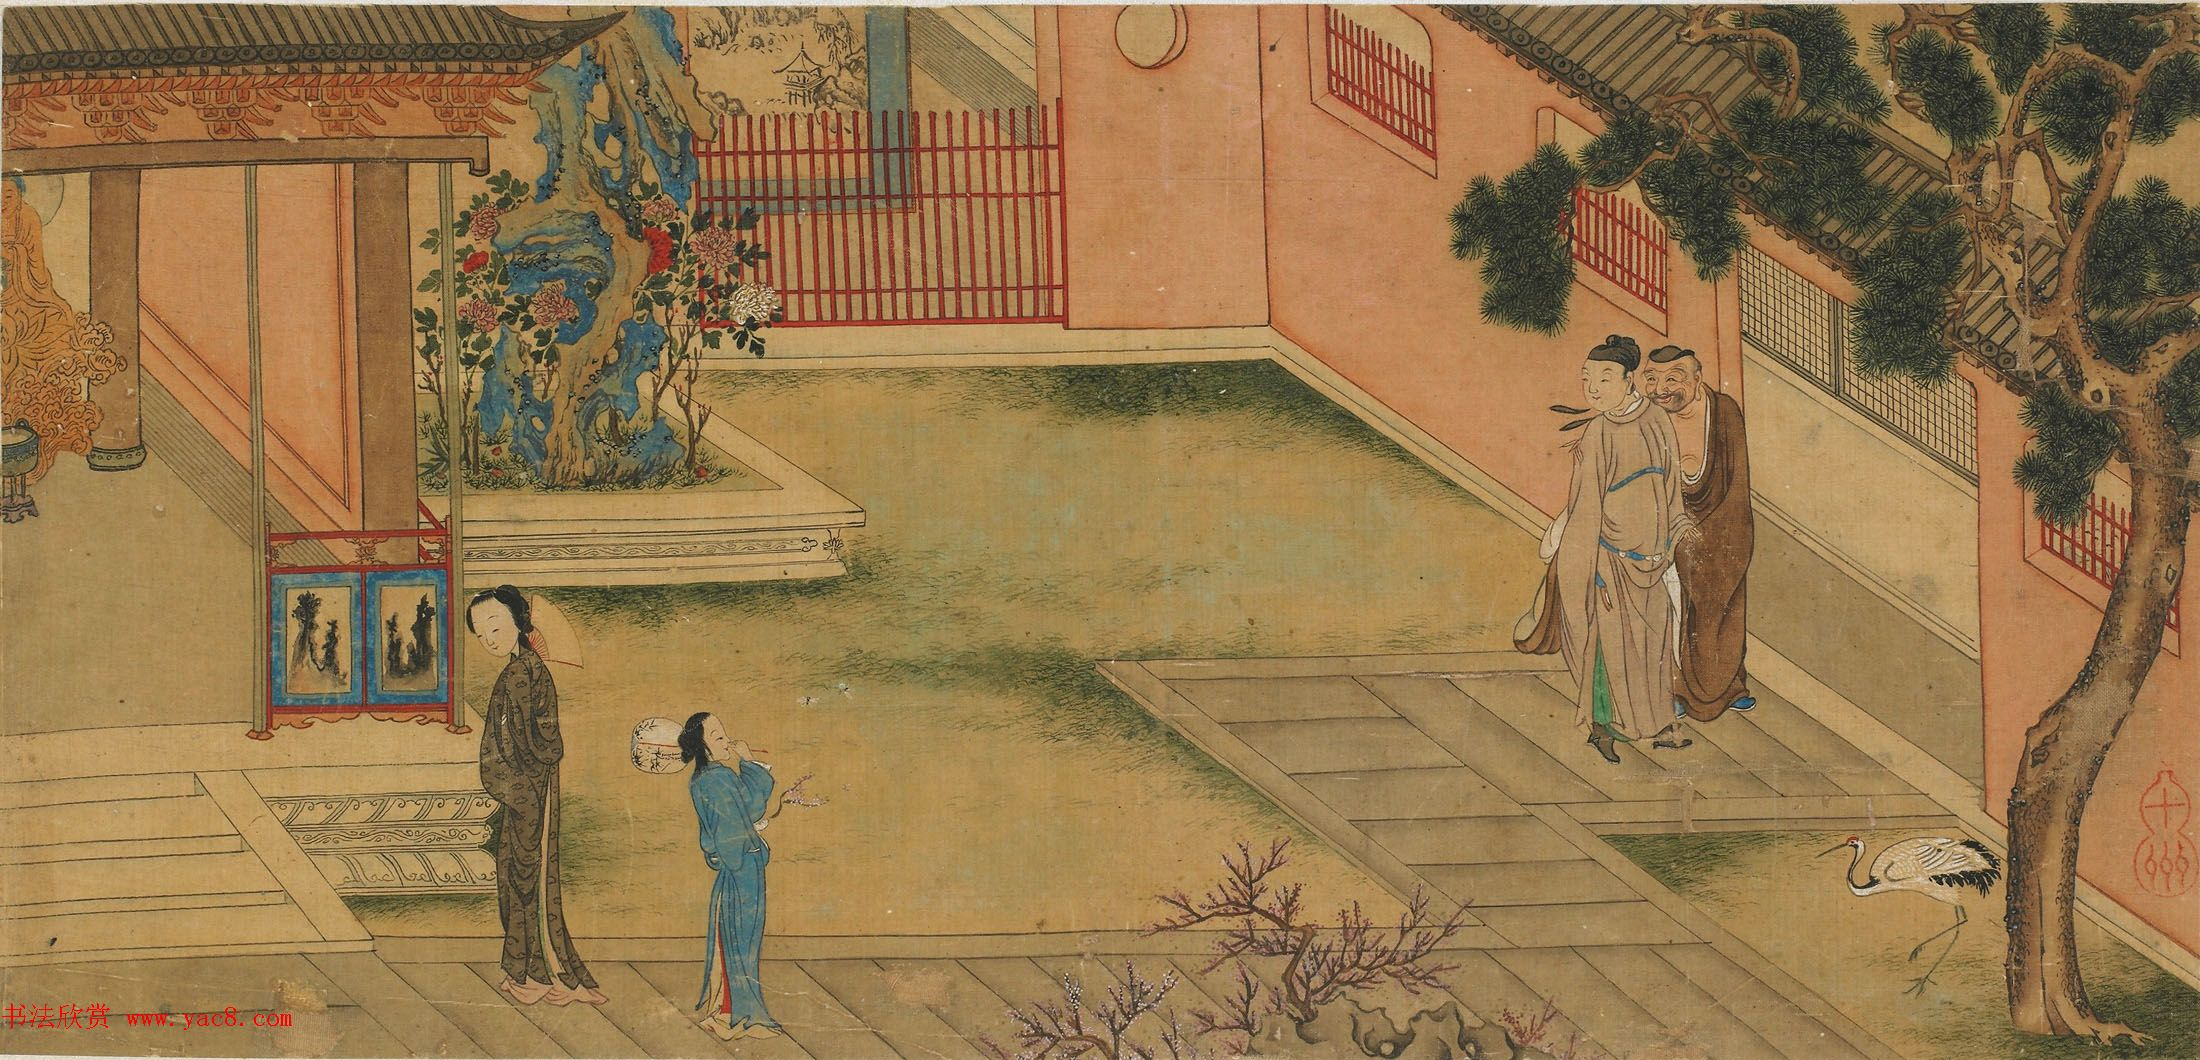crane: (1841, 838, 1995, 1009)
decoration: (1, 179, 111, 528)
fan: (538, 605, 586, 668), (640, 724, 679, 773)
flower: (478, 186, 762, 487), (559, 52, 701, 214)
house: (130, 165, 416, 759), (8, 8, 527, 173)
kid: (687, 727, 774, 1027)
man: (1587, 359, 1752, 754)
tree: (1735, 20, 2200, 389), (2016, 657, 2133, 1025), (2070, 359, 2173, 611)
wall: (1082, 1, 1365, 352), (781, 128, 1074, 327), (1390, 324, 1584, 462), (1392, 28, 1463, 327), (2114, 752, 2200, 933), (2006, 530, 2122, 636), (1992, 479, 2016, 808)
woman: (473, 606, 562, 992)
